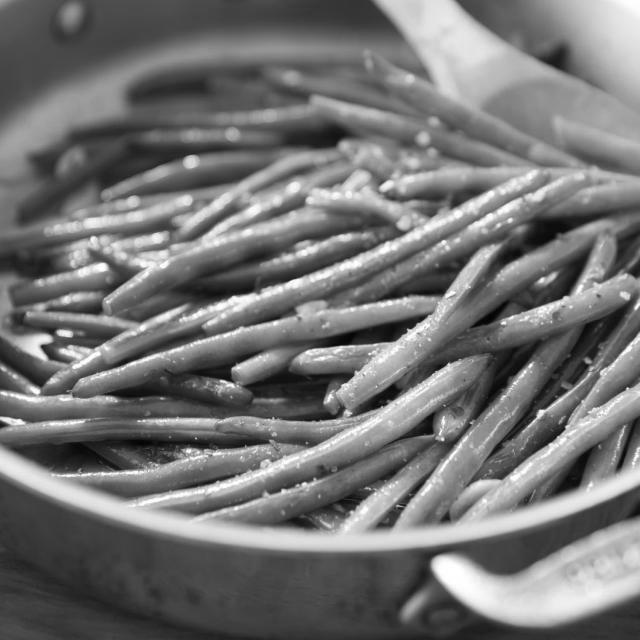Beans: (0, 47, 639, 539)
